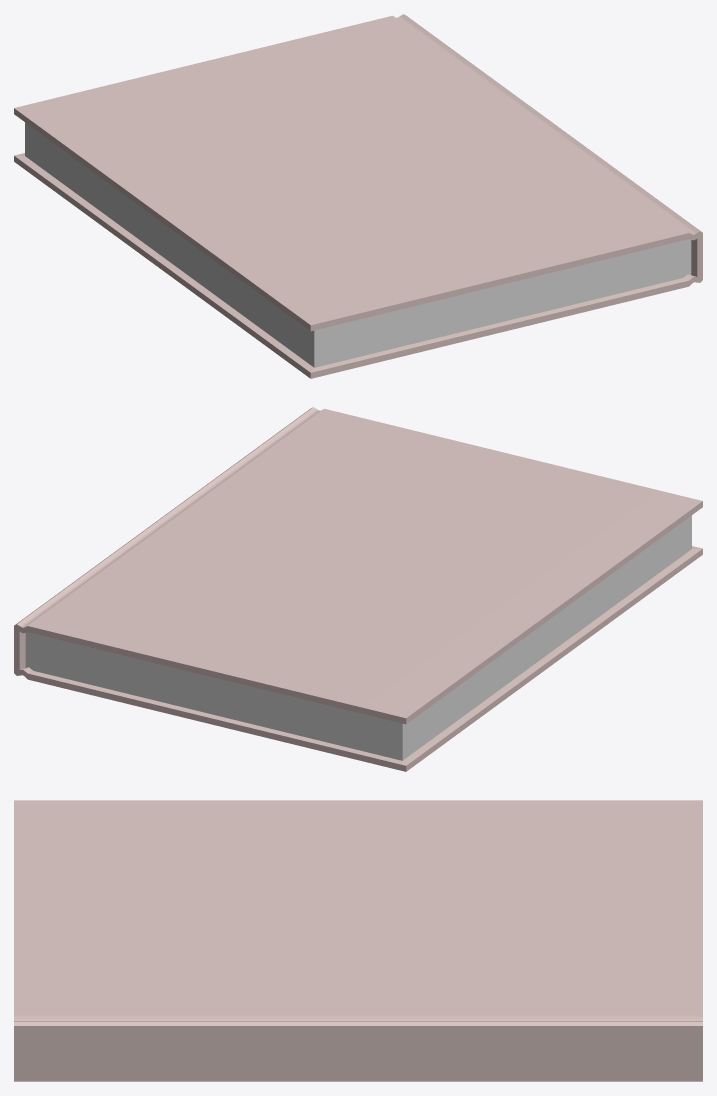
Rendered from BgMD_book5.fbx.
The picture shows the model from 3 angles, top to bottom: view 1: azimuth 30°, elevation 25°; view 2: azimuth 150°, elevation 25°; view 3: azimuth 270°, elevation 25°; orthographic projection. The views are drawn at different scales.
Parts seen in each view (by area): view 1: Bg_Book4; view 2: Bg_Book4; view 3: Bg_Book4.
Boxes of the visible parts, bbox=[...] form: Bg_Book4: bbox=[14, 14, 702, 378]; Bg_Book4: bbox=[14, 407, 702, 771]; Bg_Book4: bbox=[14, 800, 702, 1081].
Size of the model in its own units: 14.8 by 1.93 by 19.4.
1 material, 1 textured.
